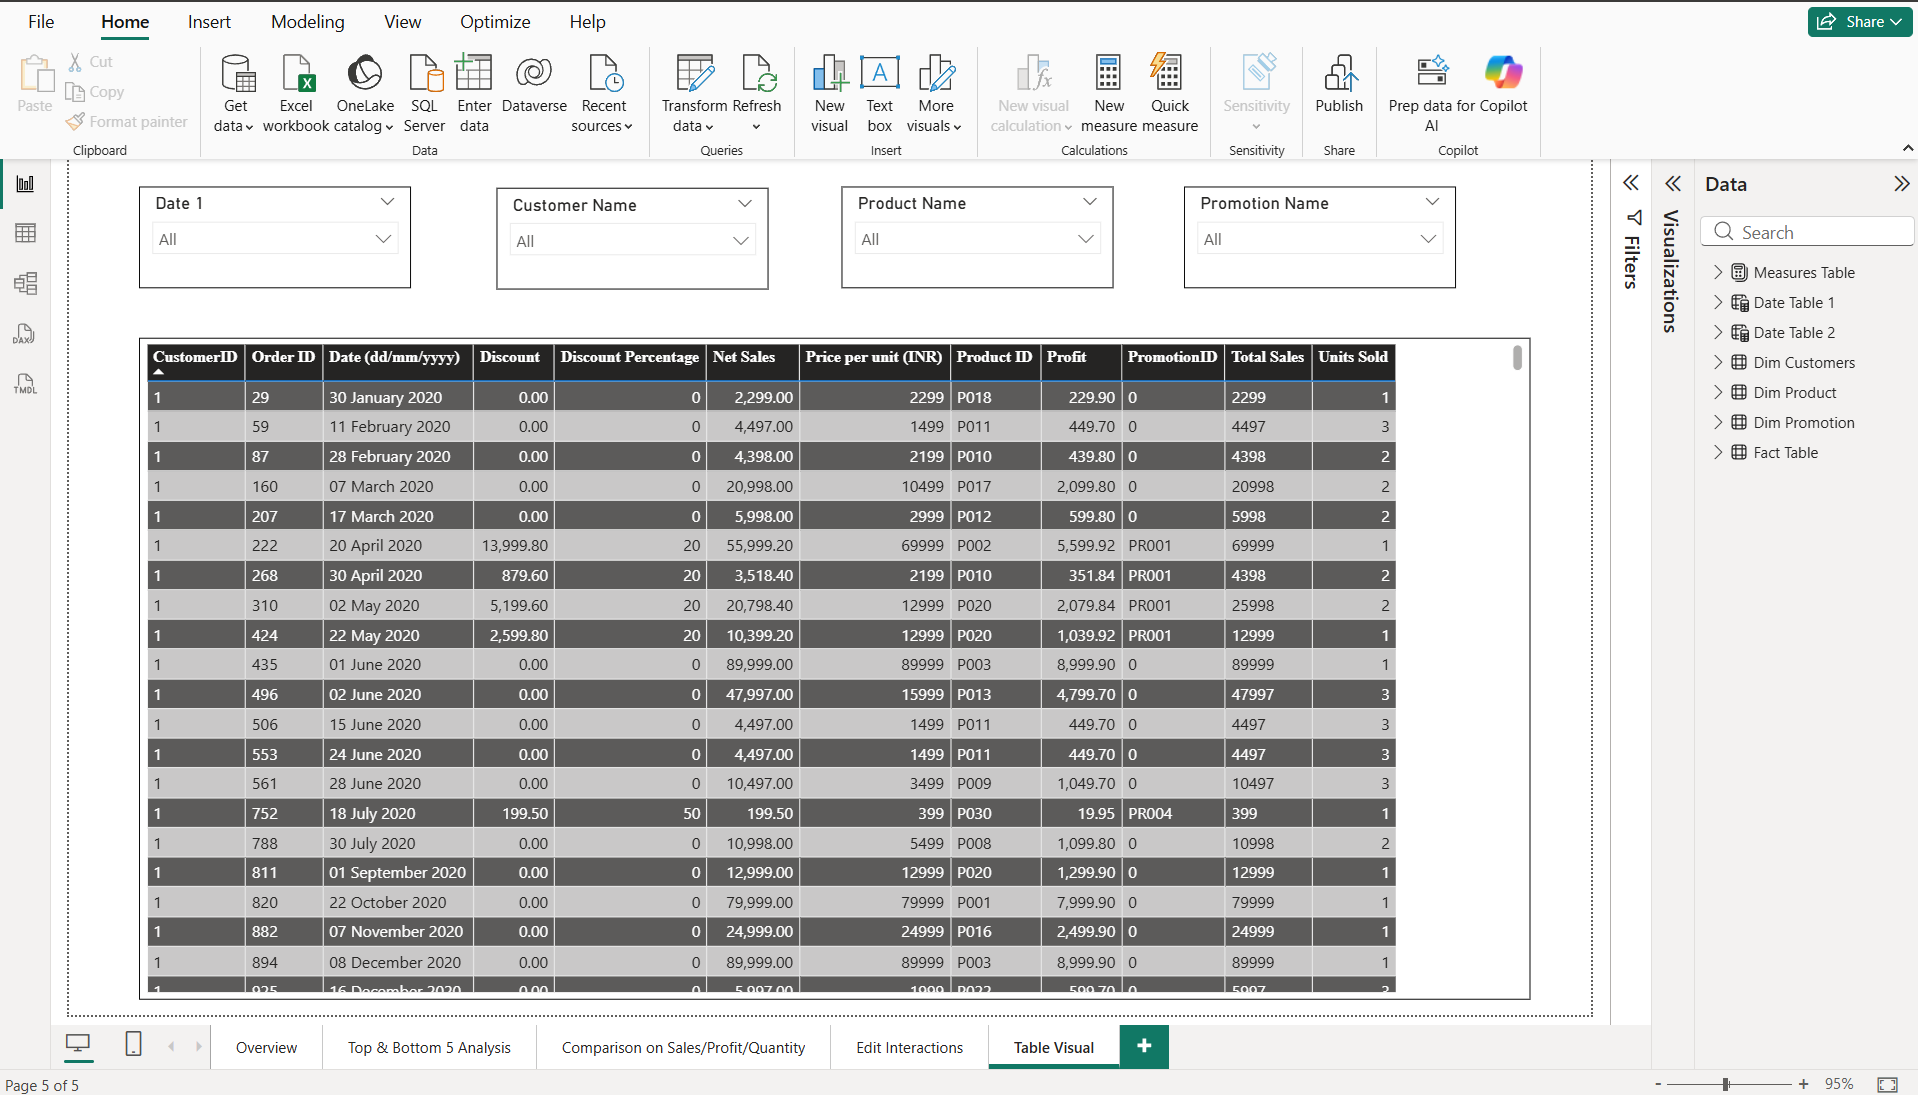

Layout of this report page (visuals, bound fields, positions):
{"tool":"powerbi","page":{"name":"Table Visual","canvas":[1280,720],"ordinal":4},"visuals":[{"type":"tableEx","fields":{"Values":["Fact Table.CustomerID","Fact Table.Order ID","Fact Table.Date (dd/mm/yyyy)","Sum(Fact Table.Discount Values)","Fact Table.Discount Percentage","Fact Table.Net Sales","Fact Table.Price per unit (INR)","Fact Table.Product ID","Fact Table.Profit","Fact Table.PromotionID","Fact Table.Total Sales","Fact Table.Units Sold"]},"box":[58.9,150,1170,556.7],"z":0},{"type":"slicer","fields":{"Values":["Date Table 1.Date"]},"box":[58.9,23.3,228.9,85.6],"z":1},{"type":"slicer","fields":{"Values":["Dim Customers.Customer Name"]},"box":[360,24.4,228.9,85.6],"z":2},{"type":"slicer","fields":{"Values":["Dim Product.Product Name"]},"box":[650,23.3,228.9,85.6],"z":3},{"type":"slicer","fields":{"Values":["Dim Promotion.Promotion Name"]},"box":[937.8,23.3,228.9,85.6],"z":4}]}

Visuals, with their boxes on the page's 1280x720 design canvas (x1, y1, x2, y2). These are canvas units, not pixel positions in the 1918x1095 screenshot, which may show the page scaled, cropped or inside an application window:
tableEx - Fact Table.CustomerID x Fact Table.Order ID: left=59, top=150, right=1229, bottom=707
slicer - Date Table 1.Date: left=59, top=23, right=288, bottom=109
slicer - Dim Customers.Customer Name: left=360, top=24, right=589, bottom=110
slicer - Dim Product.Product Name: left=650, top=23, right=879, bottom=109
slicer - Dim Promotion.Promotion Name: left=938, top=23, right=1167, bottom=109
